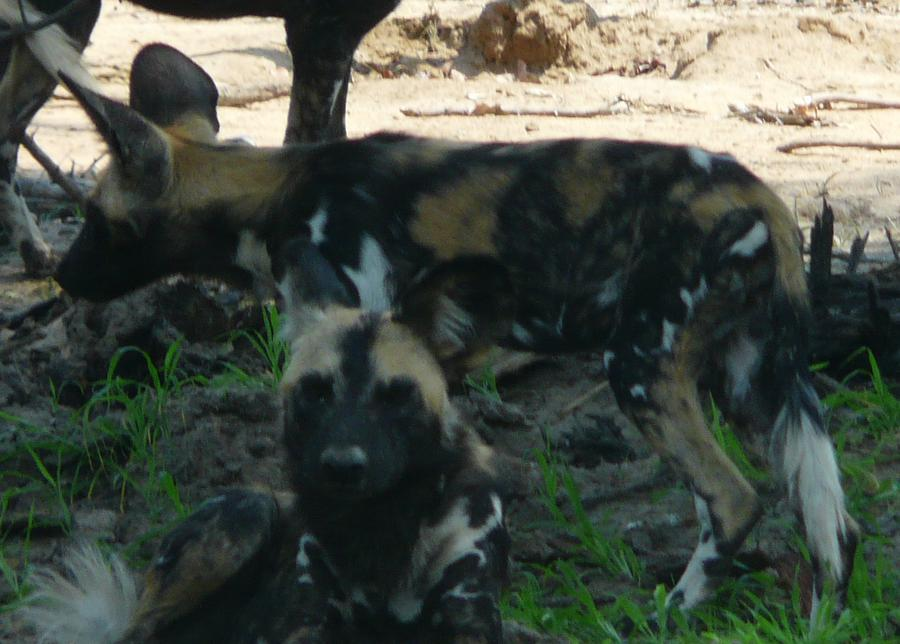wilddog: (1, 1, 900, 644)
